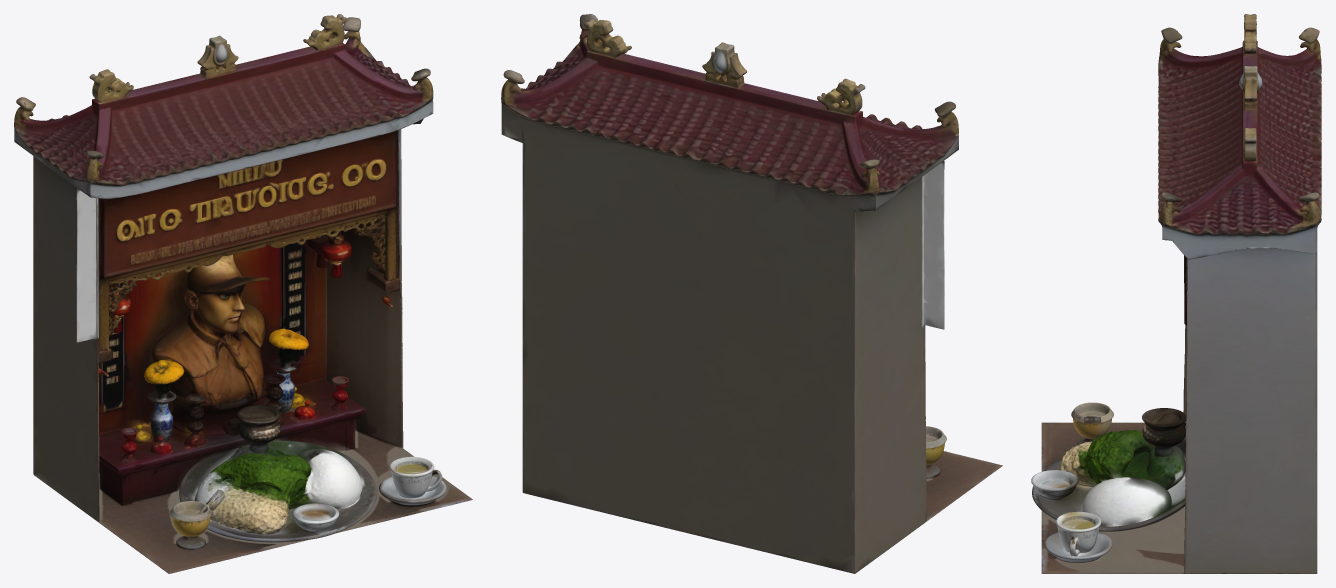
File: truongcongl.glb
3 renders of one model, left to right at view 1: azimuth 30°, elevation 25°; view 2: azimuth 150°, elevation 25°; view 3: azimuth 270°, elevation 25°, orthographic. The views are drawn at different scales.
Visible parts, largest first — view 1: node_0; view 2: node_0; view 3: node_0.
Boxes of the visible parts, bbox=[...] form: node_0: bbox=[14, 14, 472, 573]; node_0: bbox=[501, 14, 1002, 573]; node_0: bbox=[1031, 14, 1321, 573].
Bounding box in the file's own units: 0.7517 × 0.8676 × 0.5311.
1 material, 1 textured.
